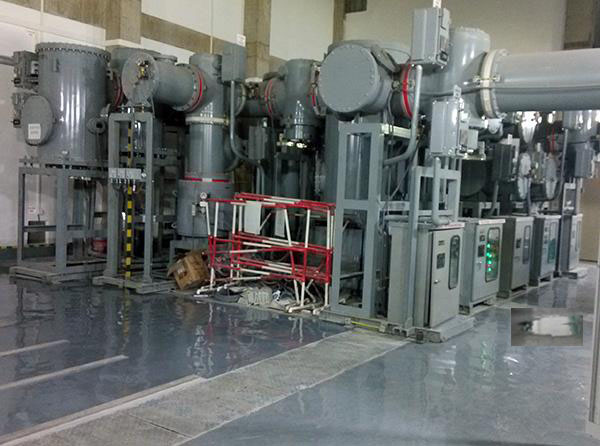oil: (511, 308, 584, 347)
